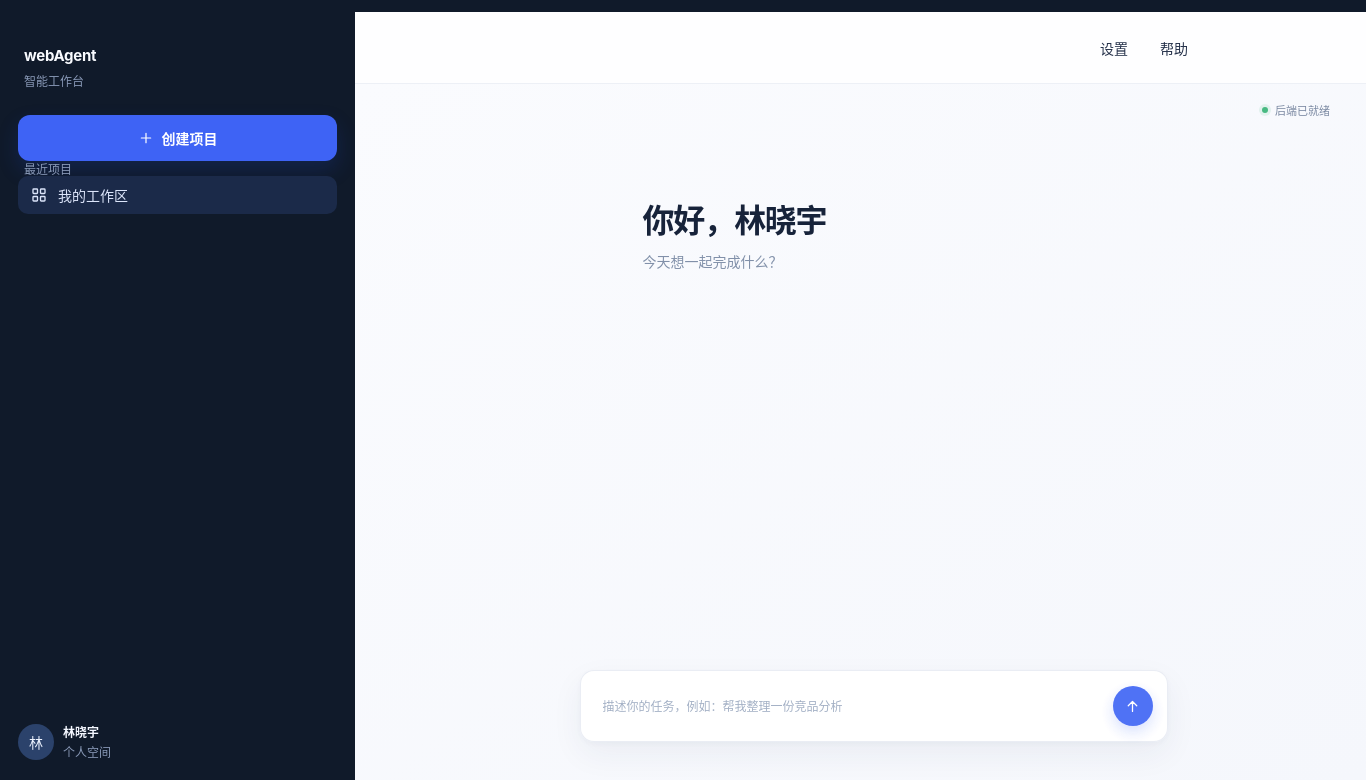
Test case: desktop run workspace › enables run configuration when the sidecar becomes ready after the initial descriptor request
Click the button "设置" at [1114, 48], box x1=1098 y1=12 x2=1130 y2=83
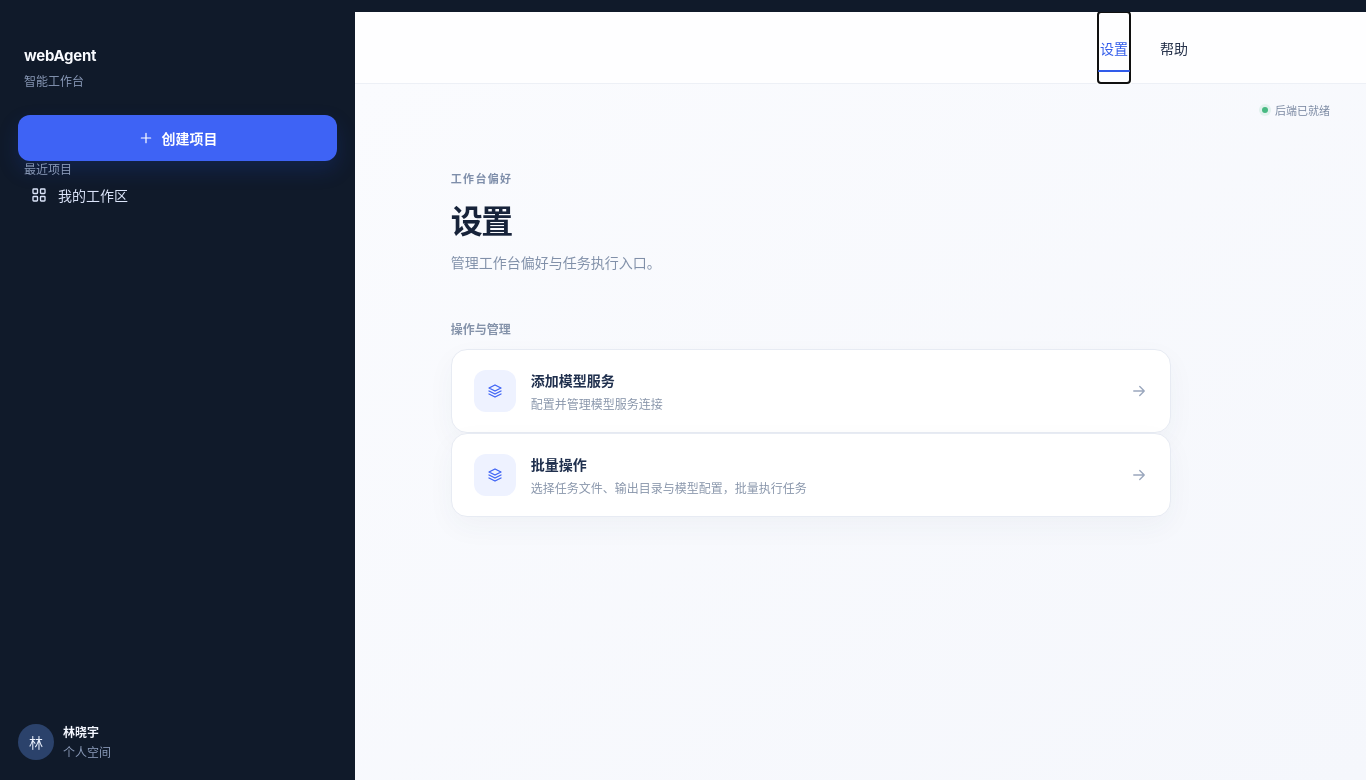
Click the button "批量操作 选择任务文件、输出目录与模型配置，批量执行任务" at [495, 475], box x1=451 y1=433 x2=1171 y2=517
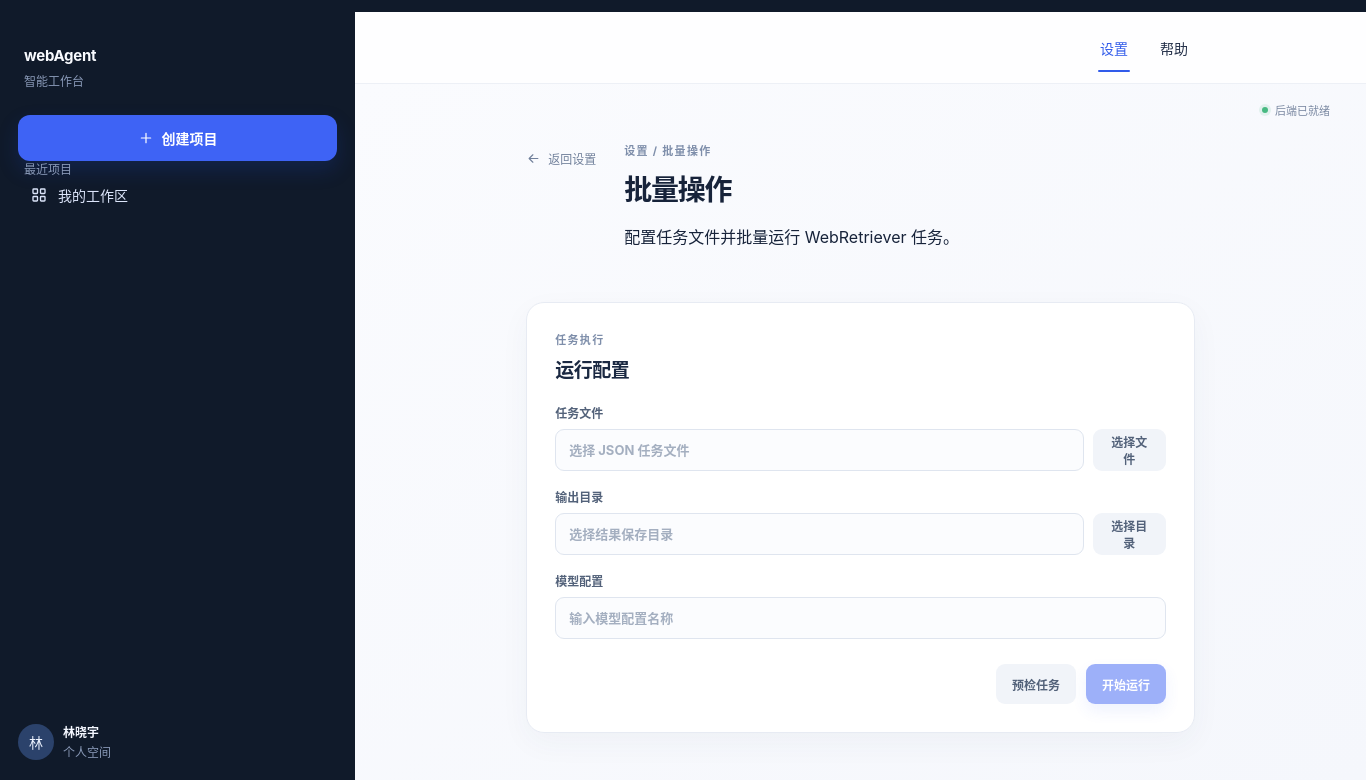
Check: the heading "批量操作" is shown, box x1=624 y1=173 x2=731 y2=207
Check: the button "选择文件" is enabled, box x1=1093 y1=429 x2=1166 y2=471
